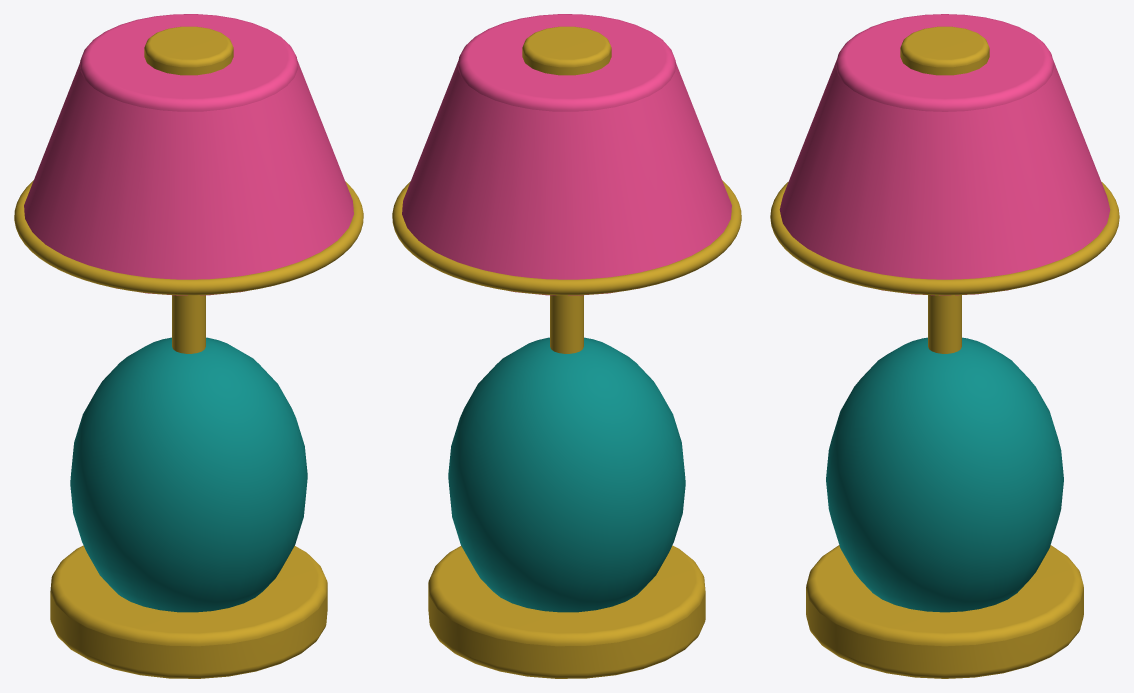
Rendered from lobby-table-lamp.glb.
3 renders of one model, left to right at view 1: azimuth 30°, elevation 25°; view 2: azimuth 150°, elevation 25°; view 3: azimuth 270°, elevation 25°, orthographic.
Visible parts, largest first — view 1: shade, body, base, shade.rim, shade.cap, neck; view 2: shade, body, base, shade.rim, shade.cap, neck; view 3: shade, body, base, shade.rim, shade.cap, neck.
Boxes of the visible parts, box(x1,y1,x2,y2) form: shade: box(24, 14, 353, 295); body: box(70, 337, 307, 612); base: box(50, 545, 327, 678); shade.rim: box(14, 180, 363, 295); shade.cap: box(144, 26, 233, 75); neck: box(172, 295, 205, 353); shade: box(402, 14, 731, 295); body: box(448, 337, 685, 612); base: box(428, 545, 705, 678); shade.rim: box(392, 180, 741, 295); shade.cap: box(522, 26, 611, 75); neck: box(550, 295, 583, 353); shade: box(779, 14, 1110, 295); body: box(826, 337, 1063, 612); base: box(806, 545, 1083, 678); shade.rim: box(770, 182, 1119, 295); shade.cap: box(900, 26, 989, 75); neck: box(928, 295, 961, 353).
Bounding box in the file's own units: 0.352 × 0.645 × 0.352.
